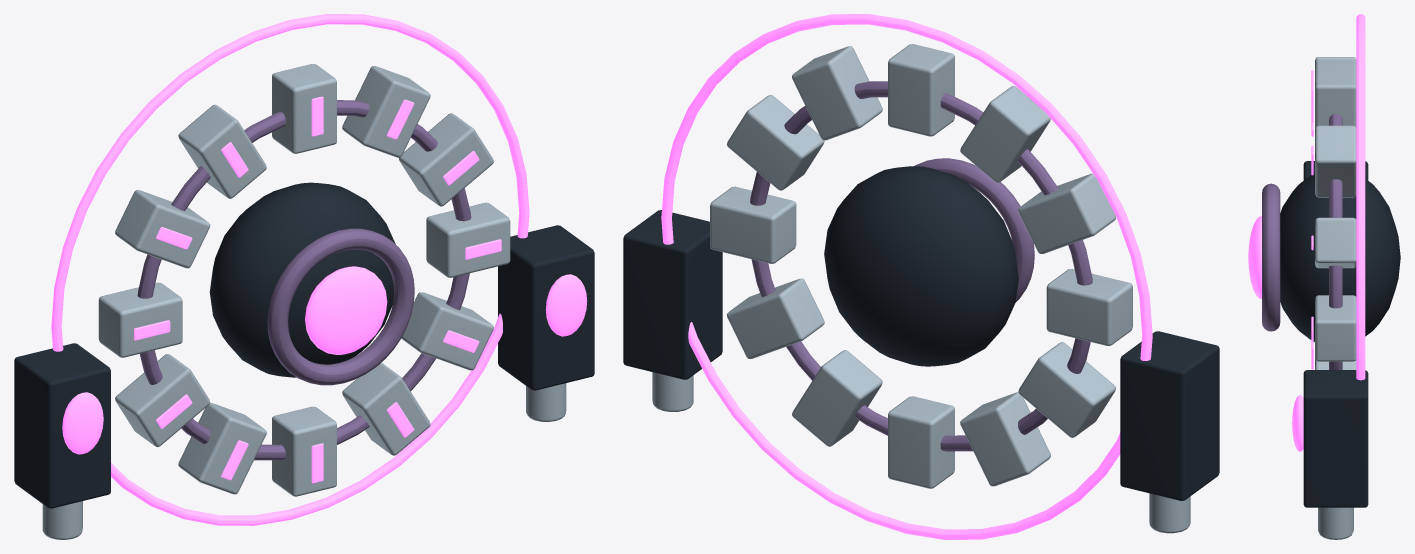
Rendered from sovereign.glb.
The picture shows the model from 3 angles, left to right: view 1: azimuth 30°, elevation 25°; view 2: azimuth 150°, elevation 25°; view 3: azimuth 270°, elevation 25°; orthographic projection. The views are drawn at different scales.
Visible parts, largest first — view 1: Singularity chamber, Outer eclipse corona, Floating cannon housing, Floating cannon housing.001, Inner gilded aperture, Orbital crown, CoreSocket.001, Radial crown armor.003, Radial crown armor.009, Radial crown armor.006, Radial crown armor, Radial crown armor.002 (+11 smaller); view 2: Singularity chamber, Outer eclipse corona, Floating cannon housing, Floating cannon housing.001, Orbital crown, Radial crown armor.003, Radial crown armor.009, Radial crown armor.006, Radial crown armor, Radial crown armor.002, Radial crown armor.008, Radial crown armor.007 (+8 smaller); view 3: Singularity chamber, Floating cannon housing.001, Outer eclipse corona, Radial crown armor.001, Inner gilded aperture, Radial crown armor.003, Radial crown armor, Radial crown armor.002, Orbital crown, Sovereign muzzle.001, CoreSocket.001, Cannon power cell.001 (+3 smaller).
Boxes of the visible parts, left/top/right/bottom form: Singularity chamber: left=209, top=182, right=395, bottom=377; Outer eclipse corona: left=51, top=14, right=529, bottom=525; Floating cannon housing: left=14, top=343, right=110, bottom=508; Floating cannon housing.001: left=498, top=225, right=594, bottom=390; Inner gilded aperture: left=267, top=228, right=414, bottom=385; Orbital crown: left=137, top=100, right=471, bottom=460; CoreSocket.001: left=305, top=266, right=387, bottom=354; Radial crown armor.003: left=426, top=202, right=510, bottom=277; Radial crown armor.009: left=98, top=282, right=182, bottom=357; Radial crown armor.006: left=272, top=406, right=336, bottom=496; Radial crown armor: left=272, top=64, right=336, bottom=153; Radial crown armor.002: left=399, top=113, right=493, bottom=206; Singularity chamber: left=824, top=166, right=1018, bottom=366; Outer eclipse corona: left=661, top=14, right=1152, bottom=539; Floating cannon housing: left=1120, top=331, right=1219, bottom=500; Floating cannon housing.001: left=623, top=210, right=722, bottom=379; Orbital crown: left=750, top=81, right=1092, bottom=451; Radial crown armor.003: left=710, top=186, right=796, bottom=263; Radial crown armor.009: left=1046, top=269, right=1132, bottom=345; Radial crown armor.006: left=888, top=396, right=954, bottom=488; Radial crown armor: left=888, top=44, right=954, bottom=136; Radial crown armor.002: left=727, top=95, right=824, bottom=190; Radial crown armor.008: left=1018, top=342, right=1115, bottom=437; Radial crown armor.007: left=960, top=392, right=1050, bottom=486; Singularity chamber: left=1280, top=173, right=1400, bottom=341; Floating cannon housing.001: left=1303, top=370, right=1368, bottom=507; Outer eclipse corona: left=1356, top=14, right=1365, bottom=380; Radial crown armor.001: left=1315, top=125, right=1356, bottom=197; Inner gilded aperture: left=1262, top=183, right=1280, bottom=331; Radial crown armor.003: left=1315, top=295, right=1356, bottom=361; Radial crown armor: left=1315, top=68, right=1356, bottom=128; Radial crown armor.002: left=1315, top=217, right=1356, bottom=268; Orbital crown: left=1329, top=113, right=1342, bottom=369; Sovereign muzzle.001: left=1318, top=507, right=1353, bottom=539; CoreSocket.001: left=1248, top=216, right=1261, bottom=298; Cannon power cell.001: left=1292, top=395, right=1303, bottom=451.
Size of the model in its own units: 5.61 by 4.89 by 1.53.
